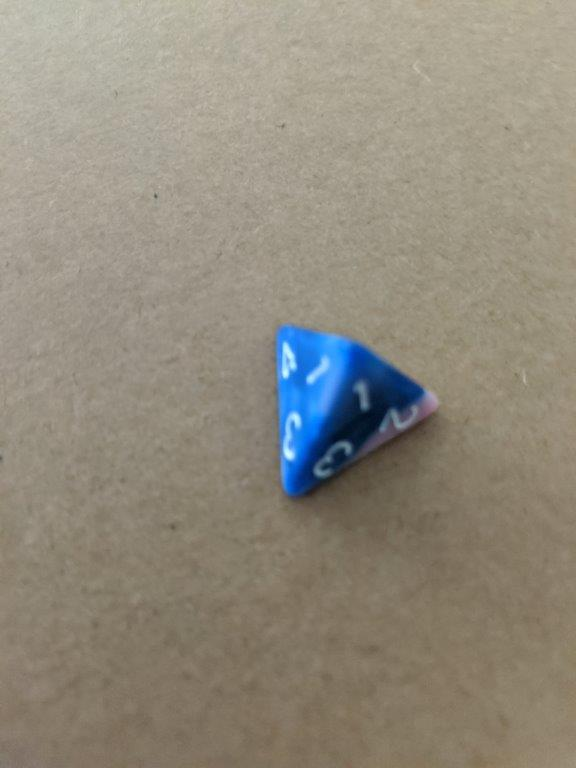d4-1: (266, 317, 442, 500)
